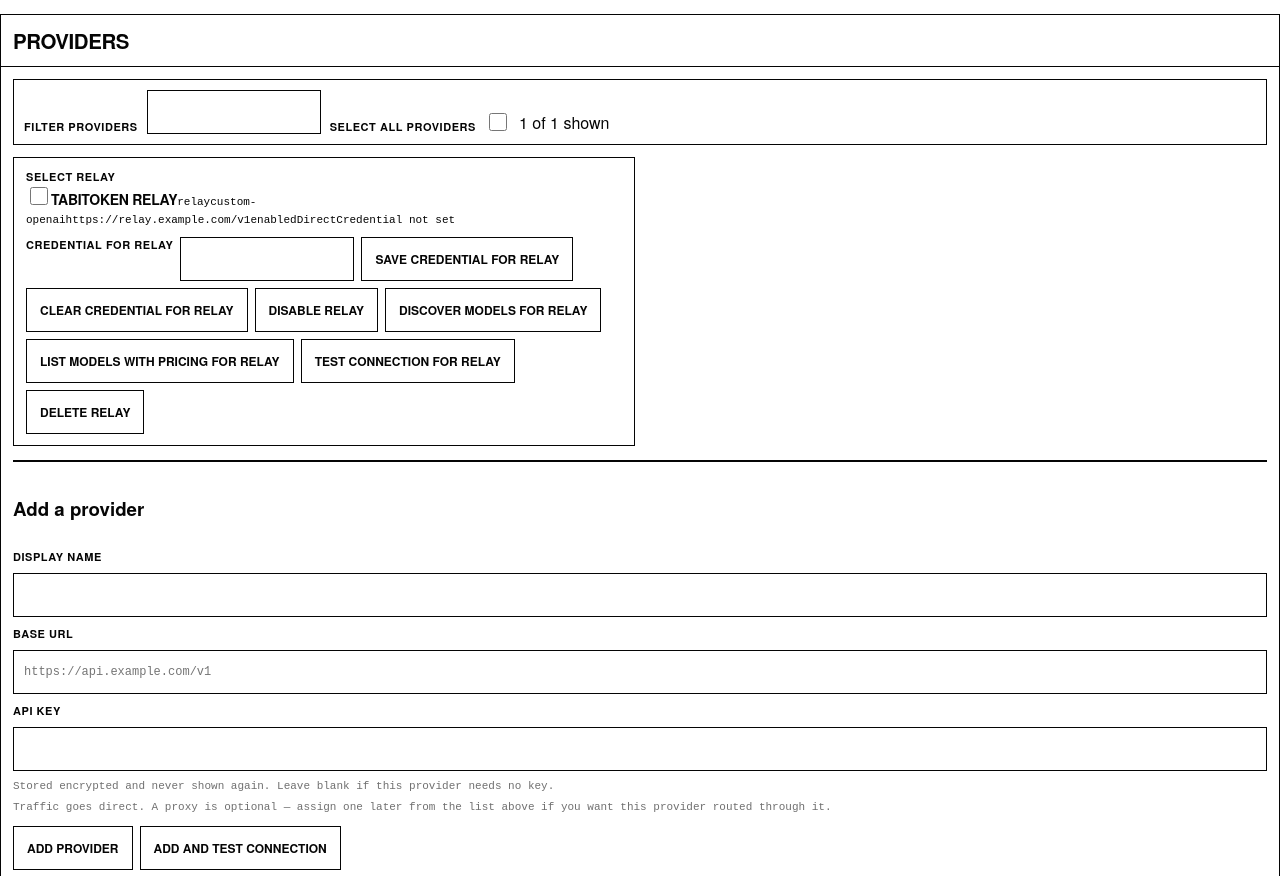
test connection › shows an explicit failure code on failure
The image size is (1280, 876).
Check: the text "Tabitoken Relay" is shown, box [51,189,177,209]
Click the button "Test connection for relay": (408, 361) [301,339,515,383]
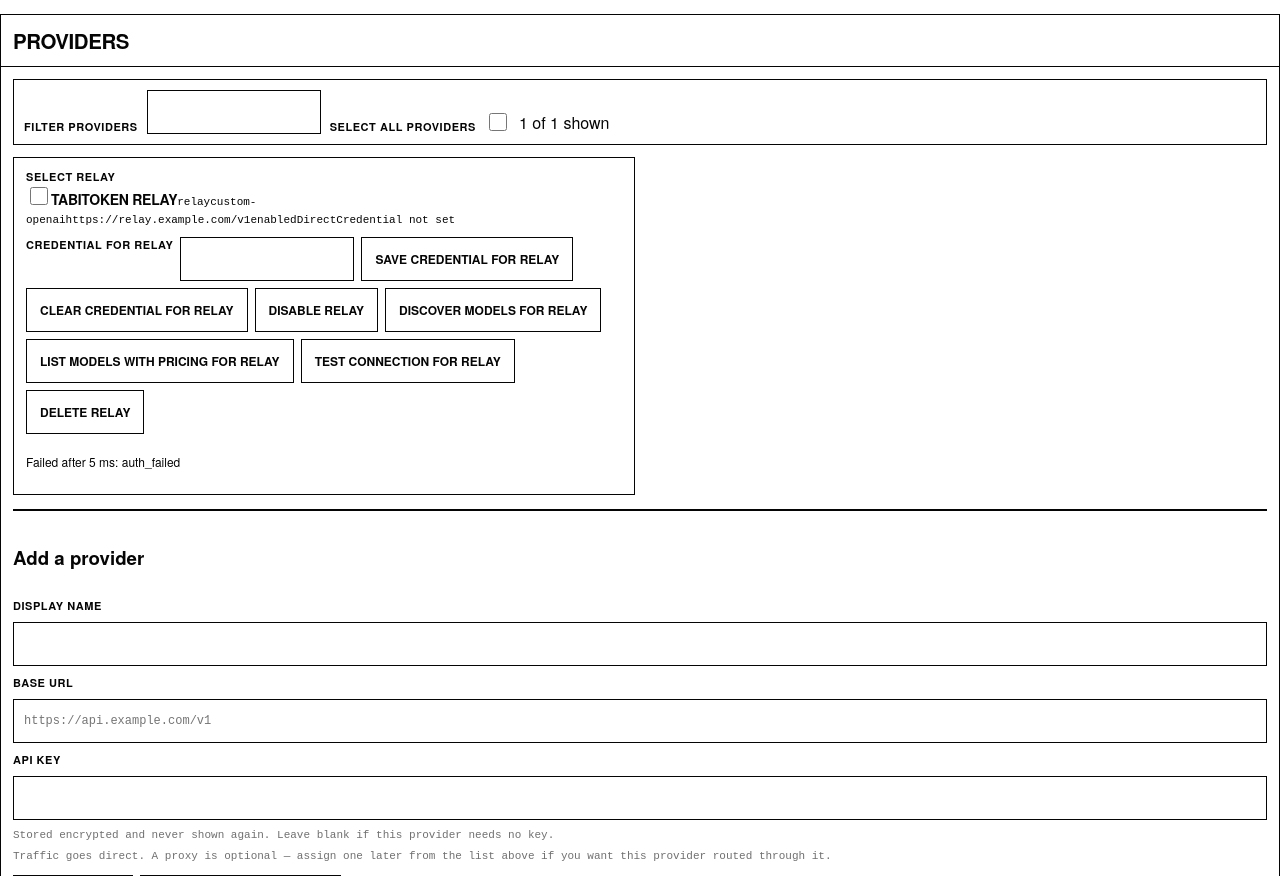
Check: the text with test id "test-result-relay" shows "auth_failed", box [26,453,180,470]
